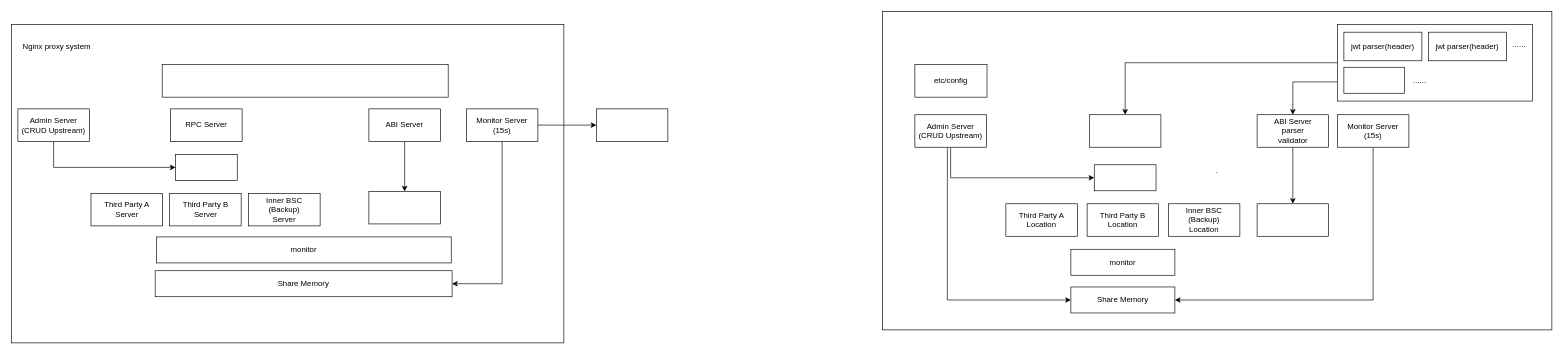
Image size: 1563x354. Some labels were removed from this diagram. The shapes that lost their labels are listed below. From the top down, each one's centre as x and y in pixels, then its label:
(x=305, y=80): jwt parser & jwt validator
(x=1373, y=80): jwt validator
(x=632, y=124): Pushgateway
(x=1125, y=130): RPC Server parser validator
(x=206, y=167): Upstream (weight)
(x=1125, y=177): Balancer (weight)
(x=404, y=207): Third Party ABI Server
(x=1292, y=219): Third Party ABI Location
